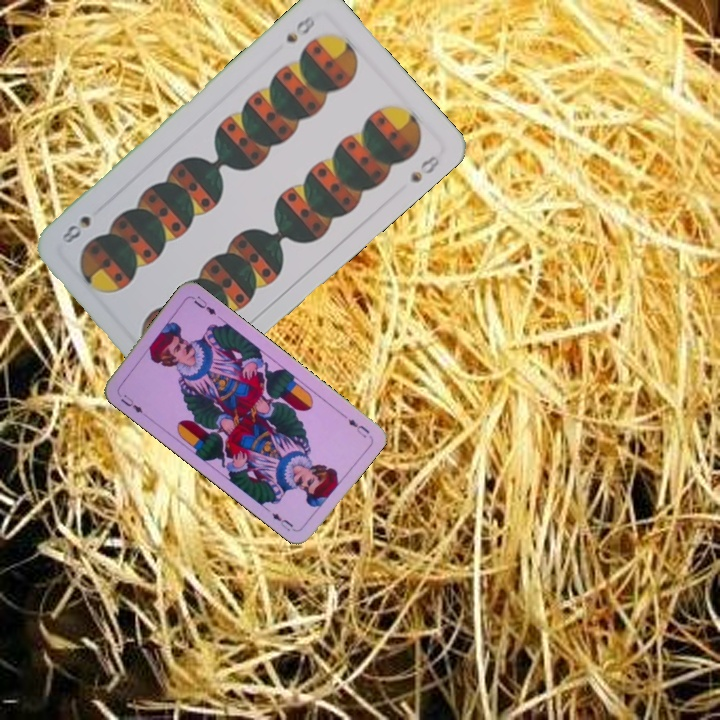EU: (338, 409, 372, 440), (116, 390, 149, 419)
S8: (281, 11, 318, 46)
